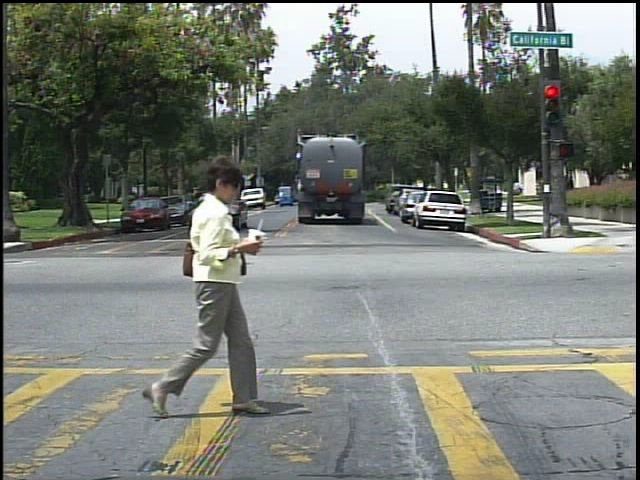person: (145, 152, 265, 424), (564, 172, 582, 205), (515, 181, 529, 200)
